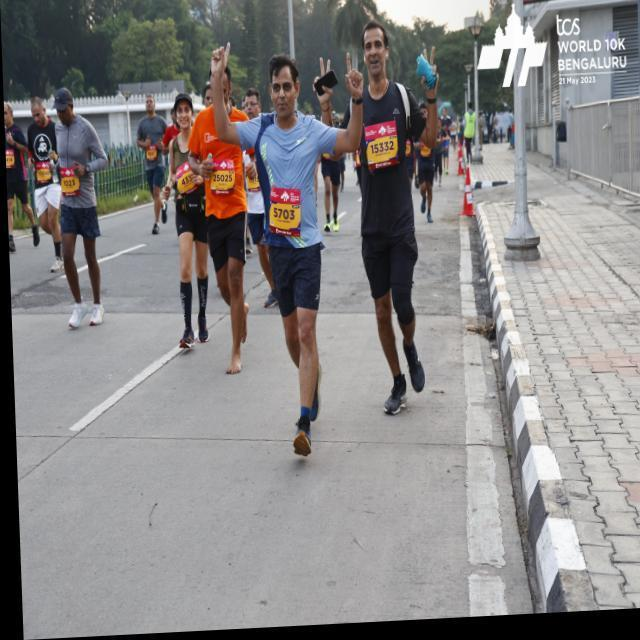dorsal: (362, 127, 400, 172), (268, 188, 300, 239), (208, 160, 234, 199)
